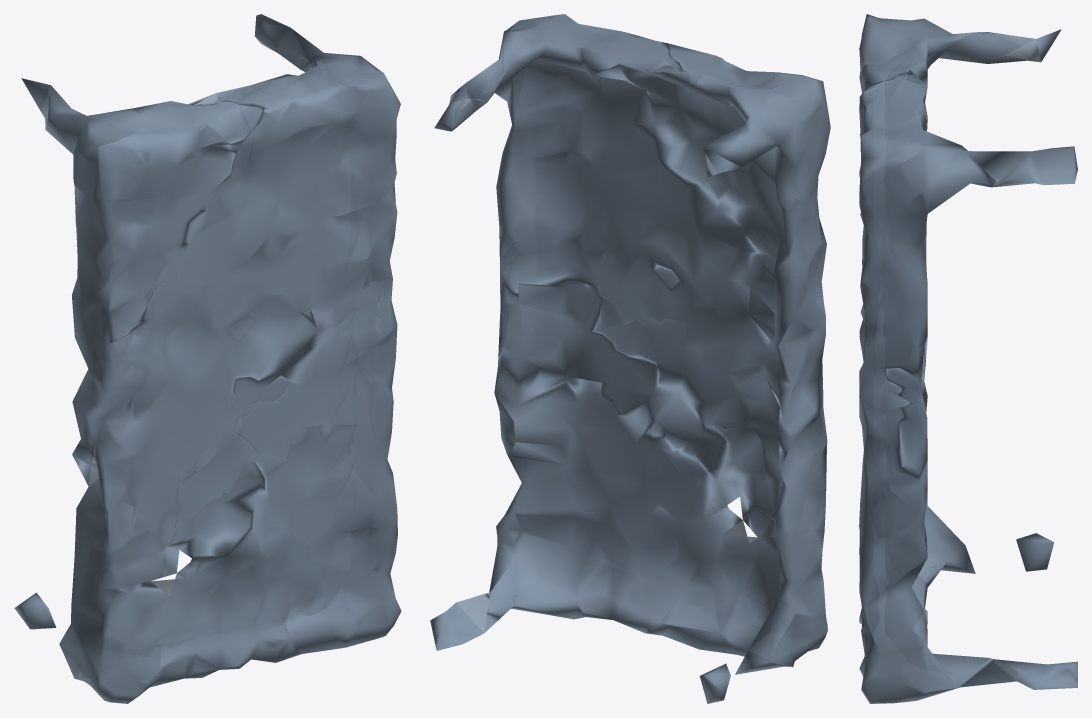
The model's file is table_0204_original.obj.
3 renders of one model, left to right at view 1: azimuth 30°, elevation 25°; view 2: azimuth 150°, elevation 25°; view 3: azimuth 270°, elevation 25°, orthographic. The views are drawn at different scales.
Size of the model in its own units: 0.8996 by 1.61 by 0.5732.
